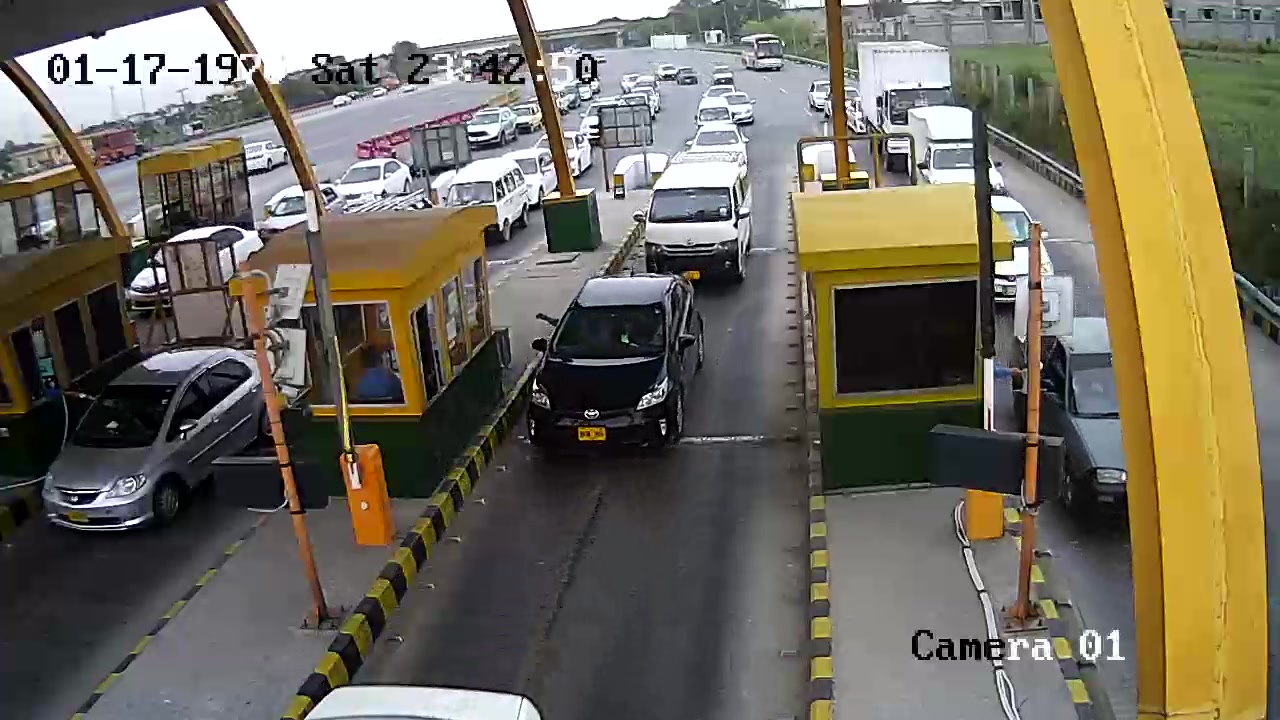F1: (505, 266, 734, 465)
